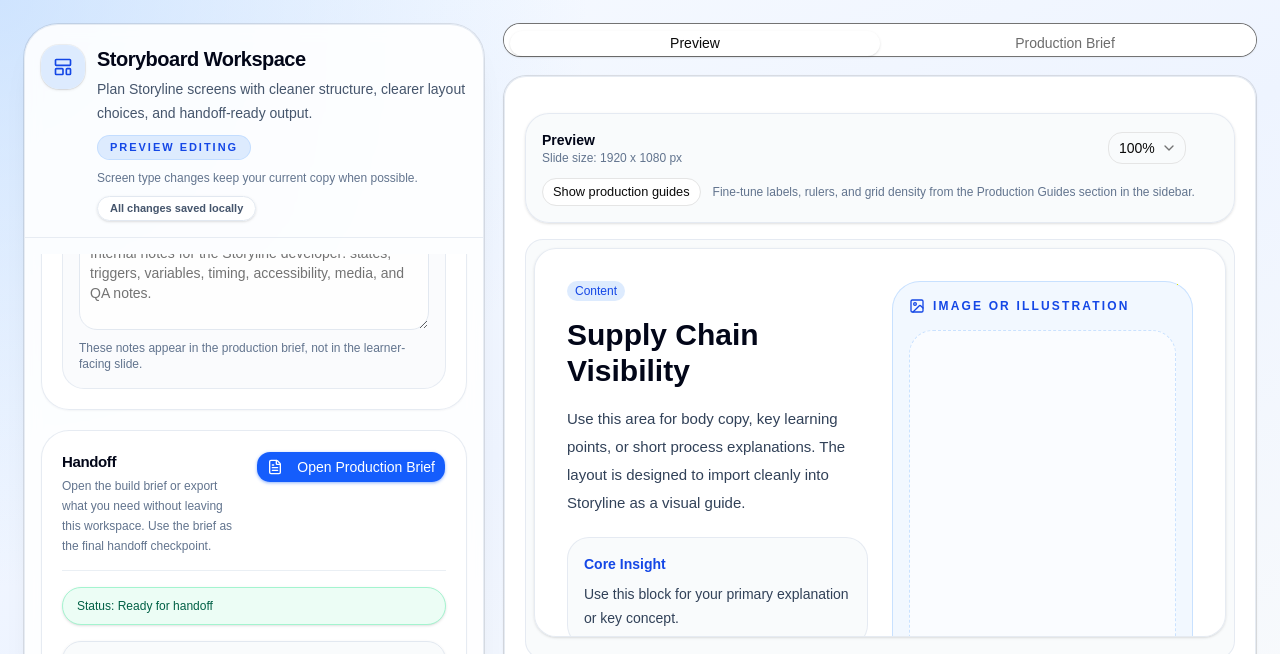
it: StorylineLayoutGenerator › opens the production brief workspace from the sidebar action
(page scrolled)
What coordinates should you click on to do the following:
click the button "Open Production Brief"
I would click on:
 (351, 467)
Its box is [256, 451, 446, 483].
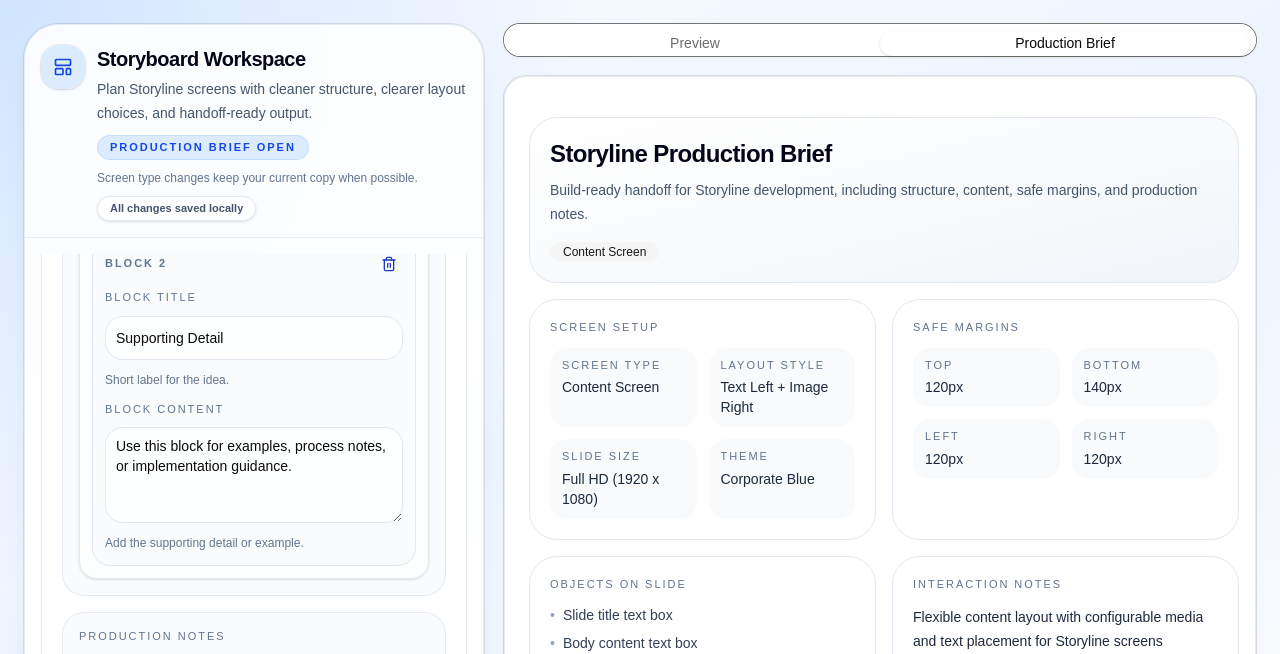
Result: the heading "Storyline Production Brief" is shown at [550, 140, 832, 167]
